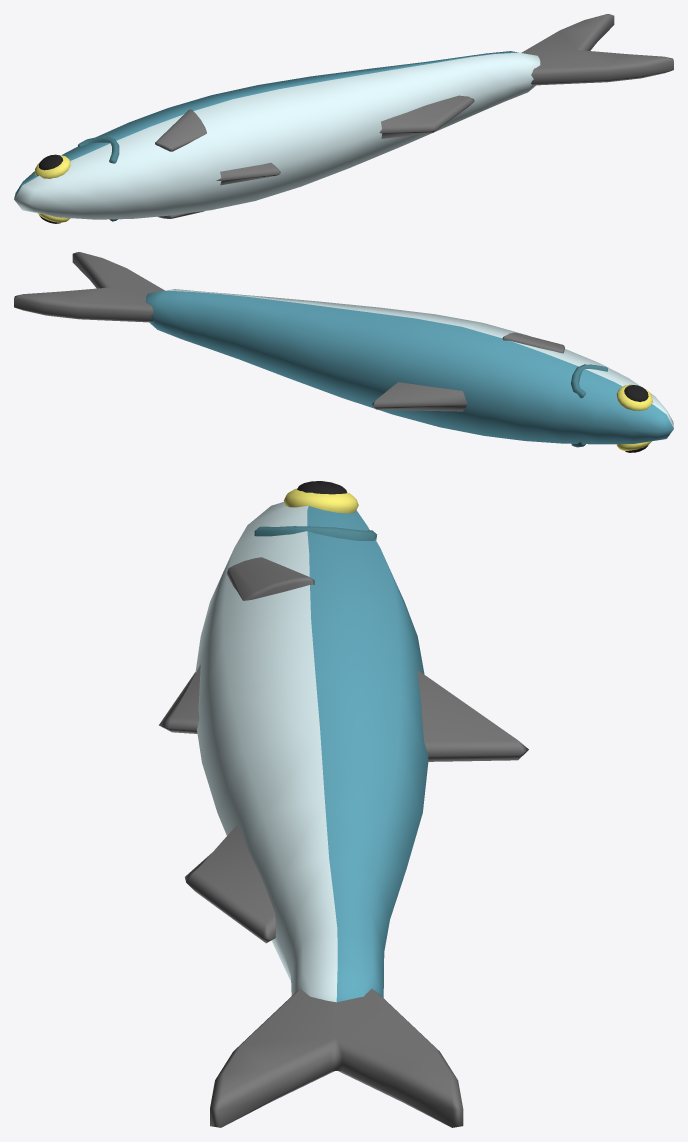
Rendered from Anchovy_1.fbx.
The picture shows the model from 3 angles, top to bottom: view 1: azimuth 30°, elevation 25°; view 2: azimuth 150°, elevation 25°; view 3: azimuth 270°, elevation 25°; orthographic projection. The views are drawn at different scales.
Visible parts, largest first — view 1: Anchovy_1; view 2: Anchovy_1; view 3: Anchovy_1.
Part boxes in pixels (left/top/right/bottom): Anchovy_1: left=14, top=14, right=673, bottom=223; Anchovy_1: left=14, top=252, right=673, bottom=452; Anchovy_1: left=159, top=481, right=528, bottom=1127.
Bounding box in the file's own units: 21.29 × 3.2 × 5.46.
